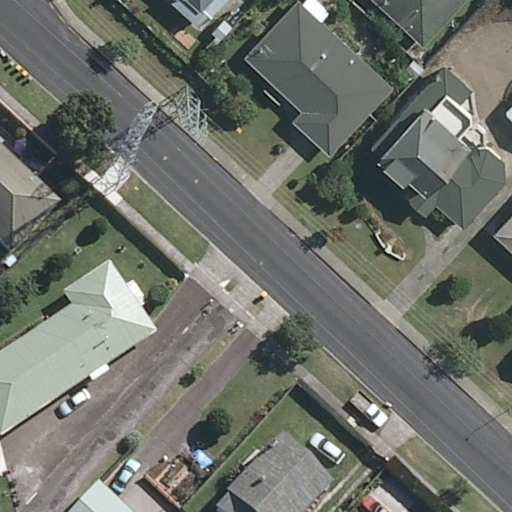TT: (103, 100, 158, 190), (169, 83, 212, 144)
